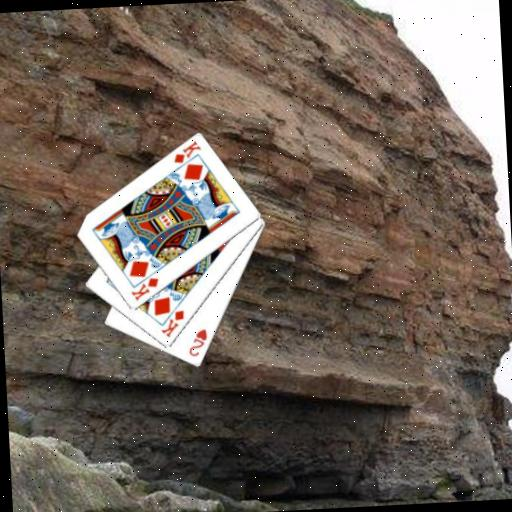2H: (184, 326, 210, 359)
KD: (157, 307, 187, 340), (127, 275, 162, 303), (170, 138, 203, 166)
